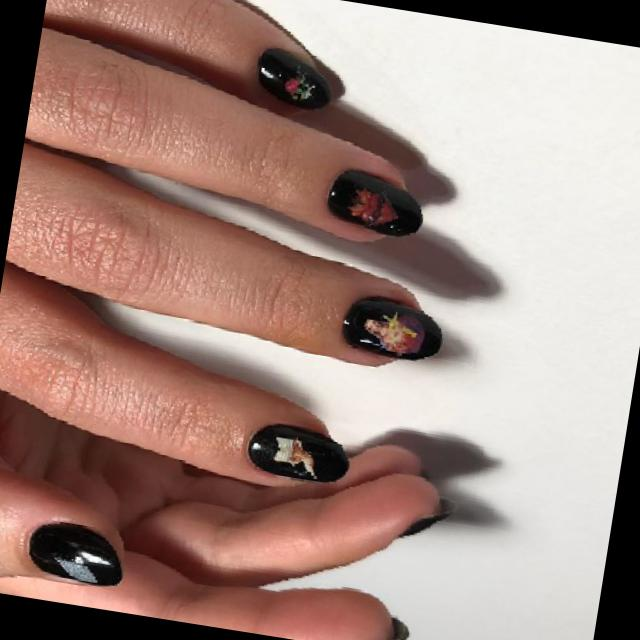Nail: (327, 170, 422, 234), (343, 297, 441, 359), (30, 523, 122, 586), (248, 425, 349, 481), (259, 48, 330, 107), (403, 506, 447, 534), (386, 618, 408, 640)
